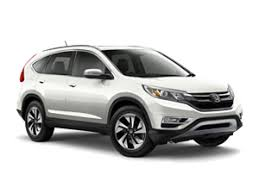Honda: (17, 44, 244, 156)
